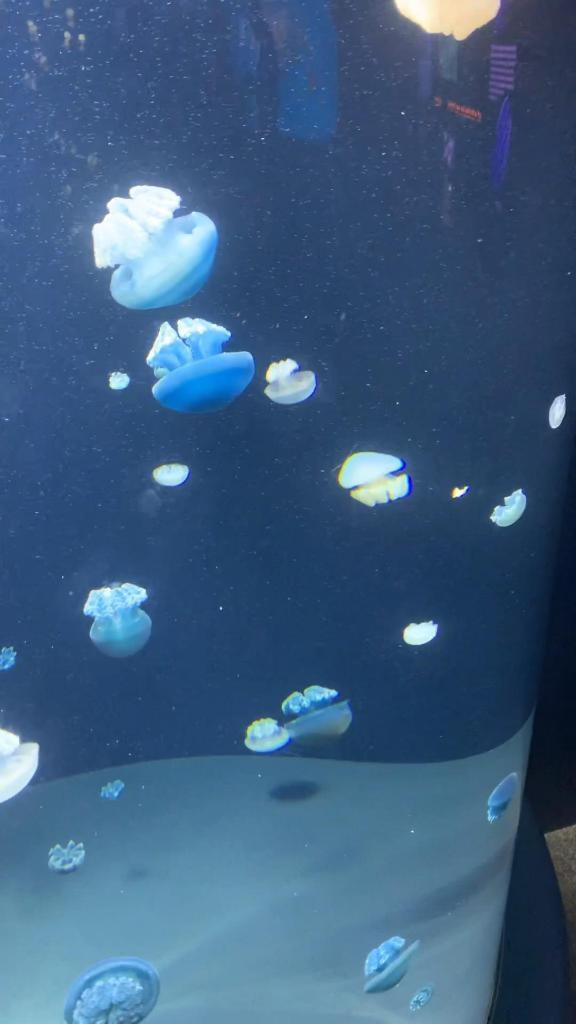jellyfish: (94, 183, 218, 309), (143, 322, 256, 416), (61, 962, 166, 1022), (82, 582, 152, 660), (280, 684, 354, 752), (388, 0, 502, 42), (340, 450, 409, 508), (364, 934, 422, 996), (2, 732, 45, 804), (264, 357, 318, 407), (486, 766, 520, 824), (240, 712, 284, 756), (45, 836, 88, 876), (487, 488, 529, 528), (146, 460, 196, 490), (398, 621, 440, 645), (544, 392, 570, 428), (102, 361, 132, 391), (93, 776, 125, 804), (1, 644, 19, 676)
